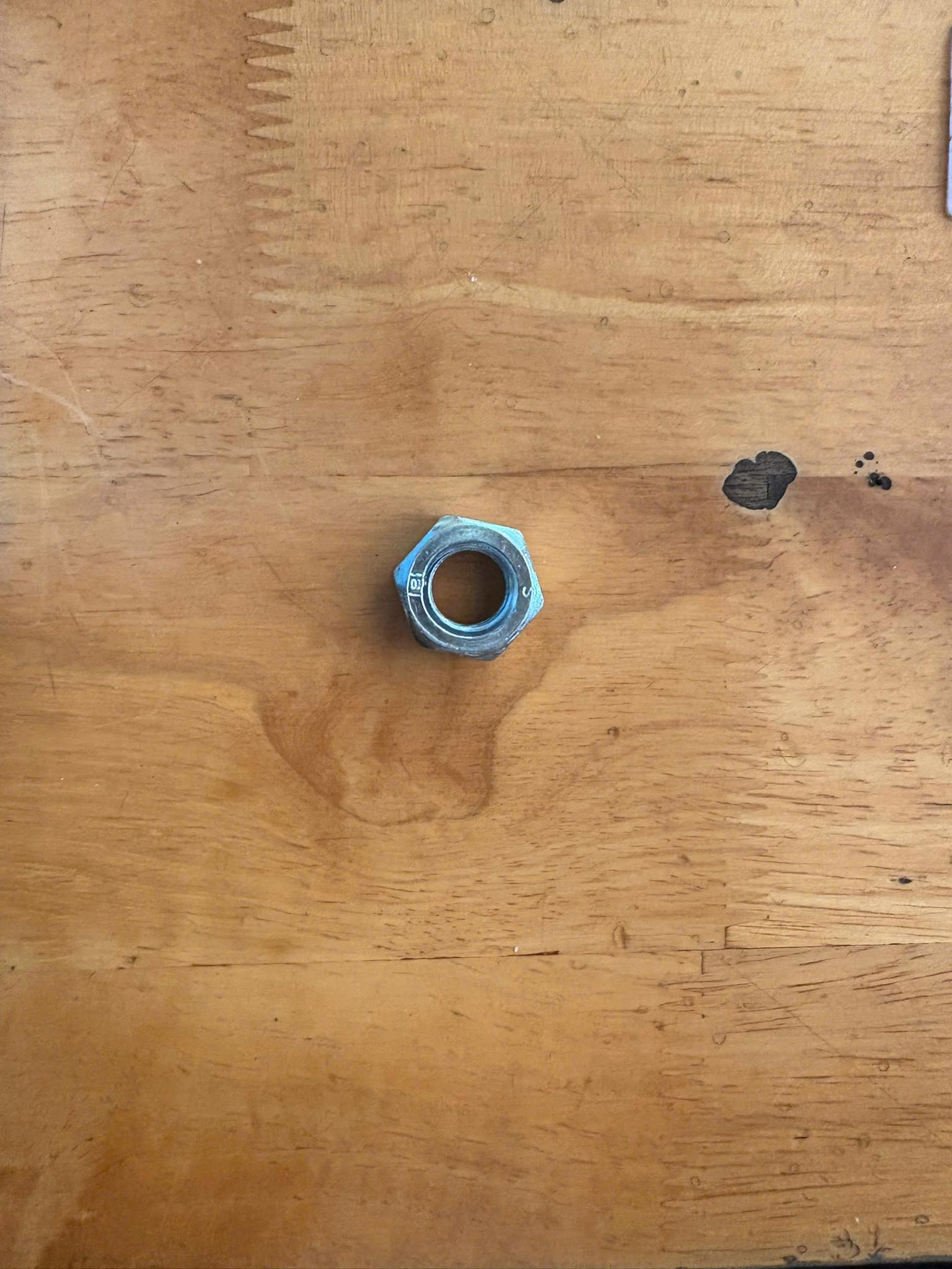nut: (384, 509, 555, 690)
